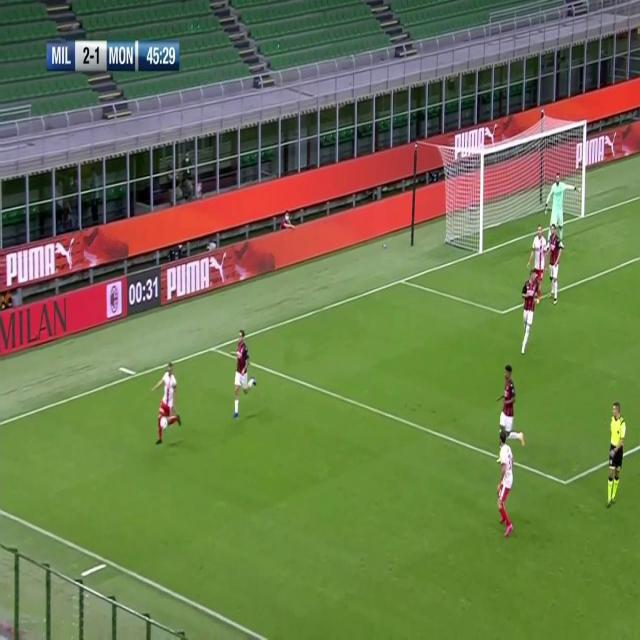ball: (160, 415, 168, 430)
goalkeeper: (544, 173, 582, 226)
player: (495, 431, 519, 542), (495, 364, 525, 444), (153, 361, 181, 446), (231, 328, 257, 419), (517, 268, 539, 356), (546, 224, 562, 303), (526, 222, 546, 268)
referee: (604, 401, 628, 508)
